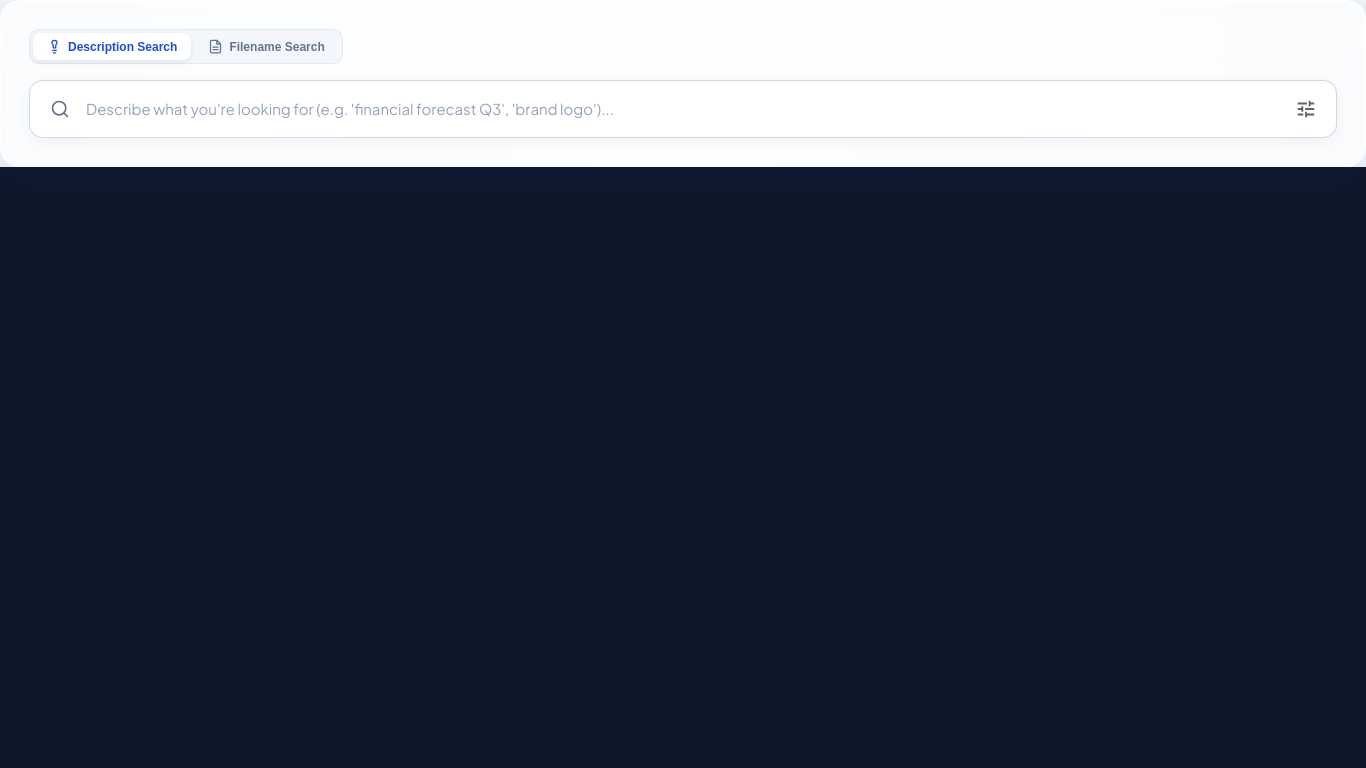
it: renders tags dropdown with Google Drive style select and options
The width and height of the screenshot is (1366, 768).
Click the button named "Tag filters" at [1306, 109], box [1286, 89, 1326, 129]
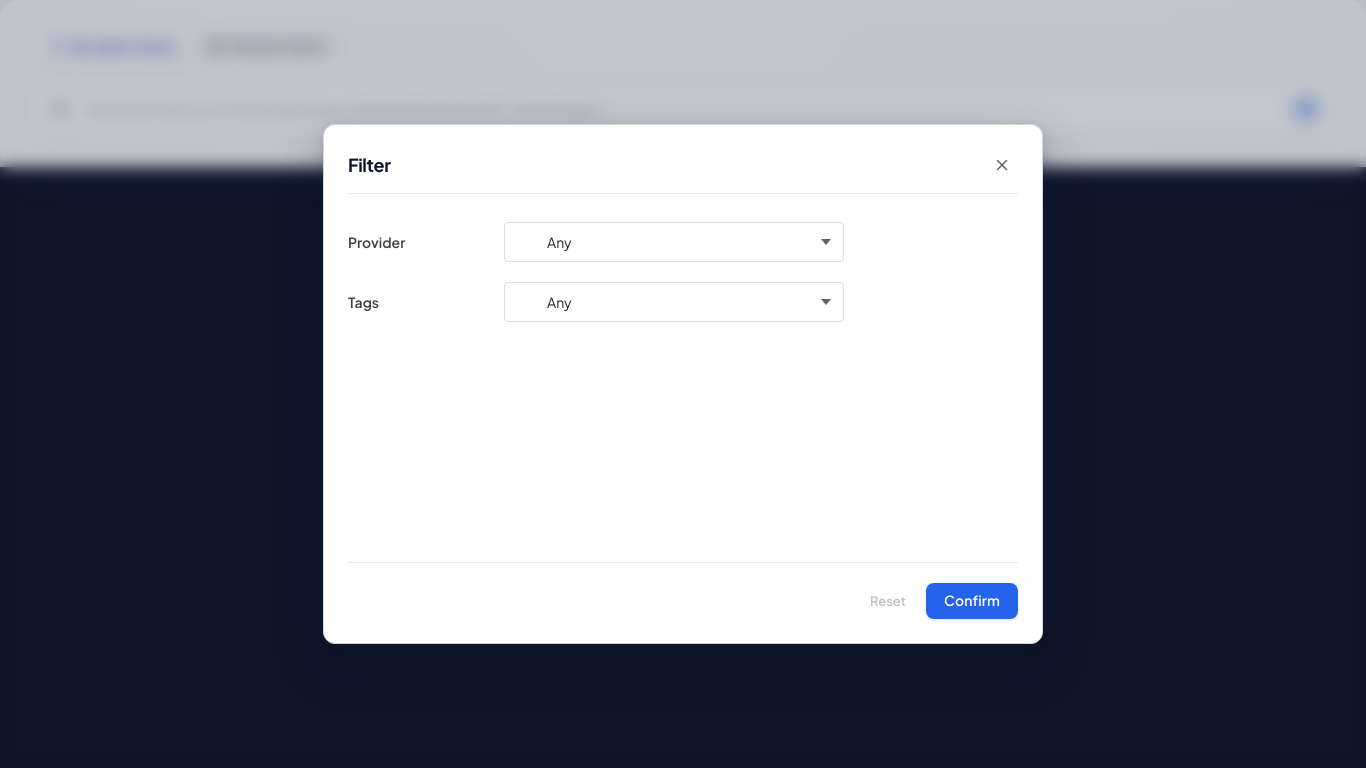
Check: the button named "Tags" reads "Any"
Note: Open dropdown
Click the button named "Tags" at [559, 302], box [504, 282, 844, 322]
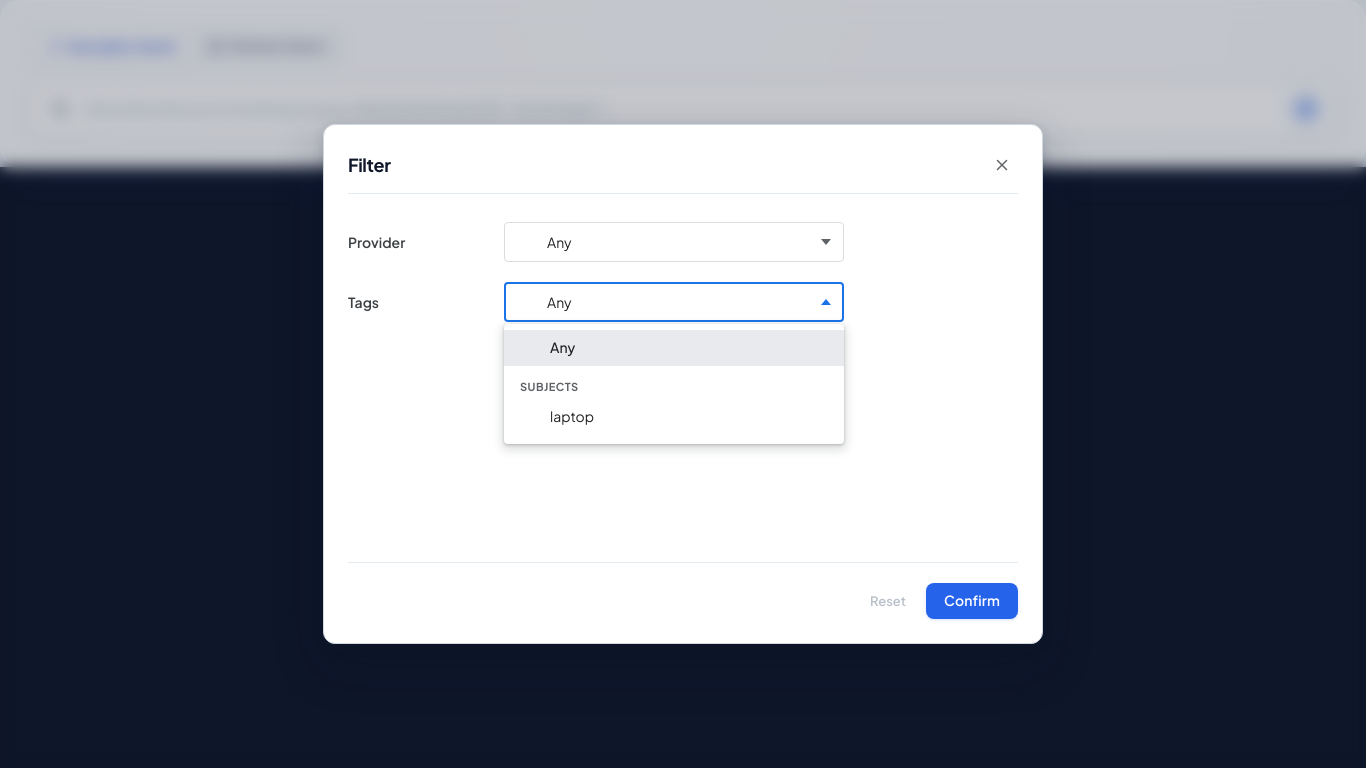
Check: the list named "Tags" is shown, box [504, 324, 844, 444]
Check: the option "Any" is shown, box [504, 330, 844, 366]
Check: the option "laptop" is shown
Note: Select laptop tag
Click the option "laptop" at [572, 416], box [504, 399, 844, 434]
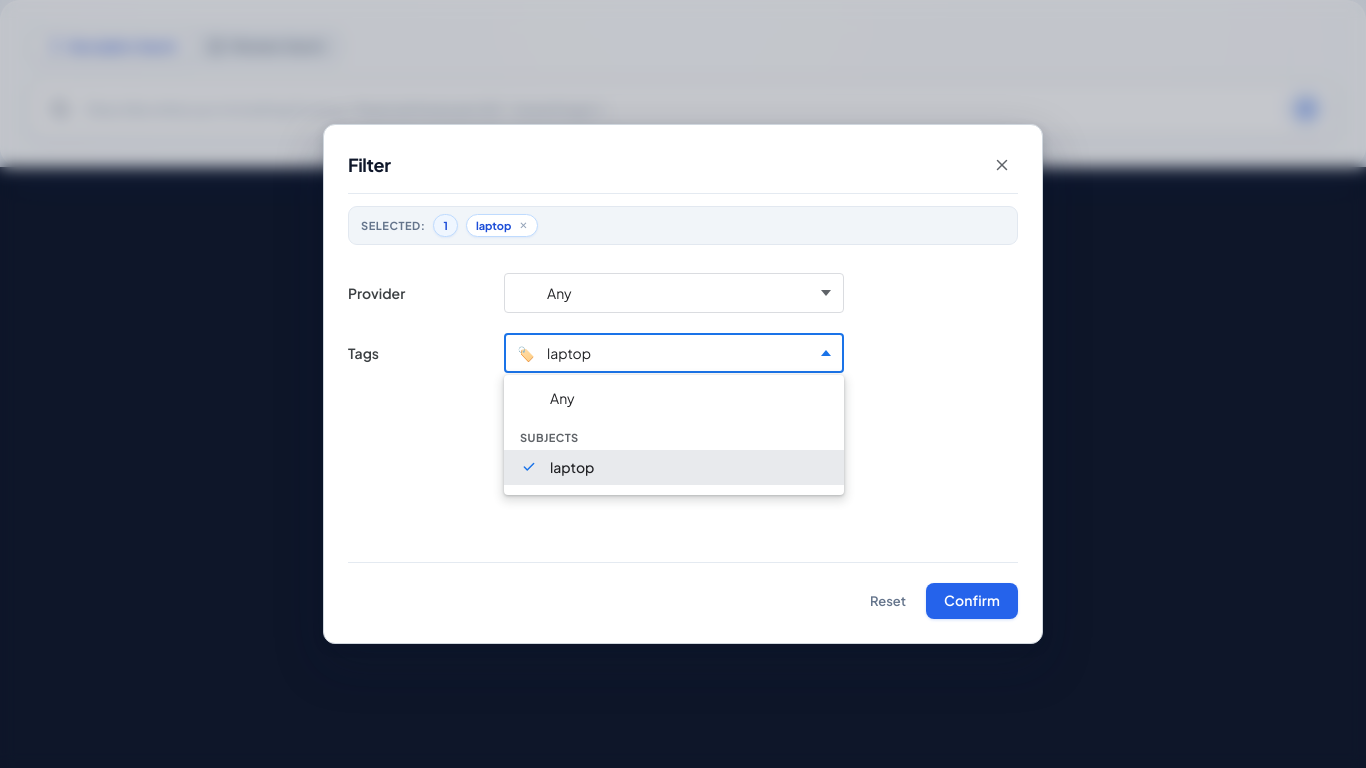
Check: the button named "Tags" shows "laptop", box [504, 333, 844, 373]
